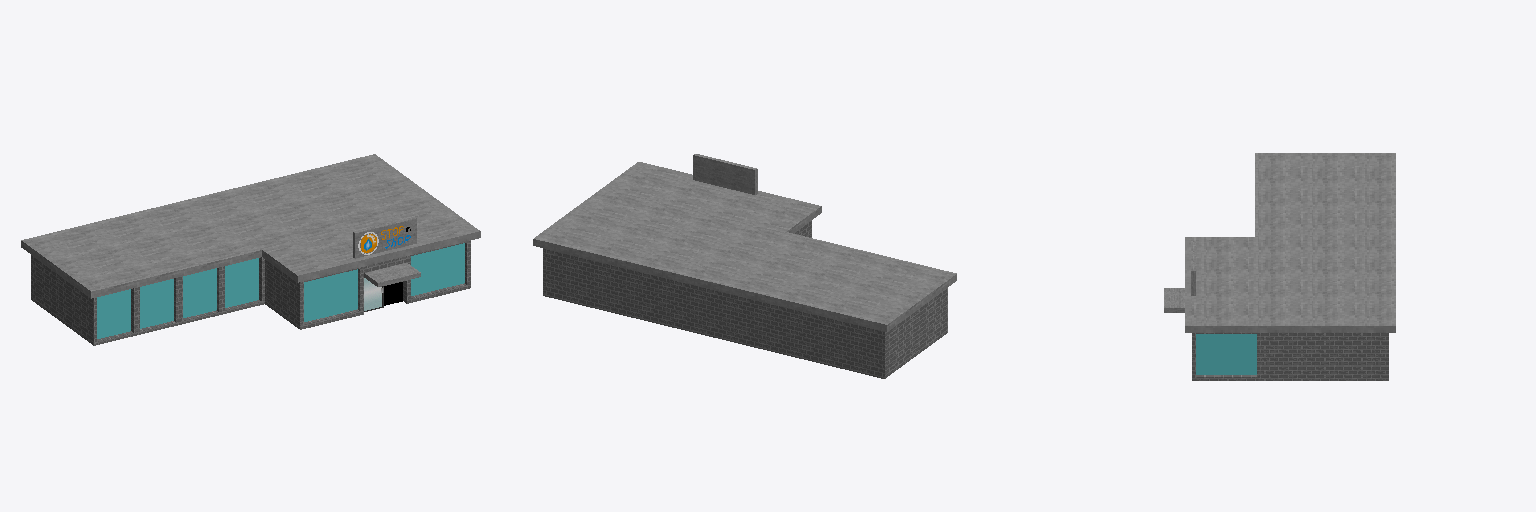
3 renders of one model, left to right at view 1: azimuth 30°, elevation 25°; view 2: azimuth 150°, elevation 25°; view 3: azimuth 270°, elevation 25°, orthographic.
Parts seen in each view (by area): view 1: gas_station_shop; view 2: gas_station_shop; view 3: gas_station_shop.
Boxes of the visible parts, <box> form: gas_station_shop: <box>21,154,480,345</box>; gas_station_shop: <box>533,154,956,378</box>; gas_station_shop: <box>1164,153,1395,380</box>.
Bounding box in the file's own units: 28.97 × 6.52 × 16.42.
7 materials, 5 textured.